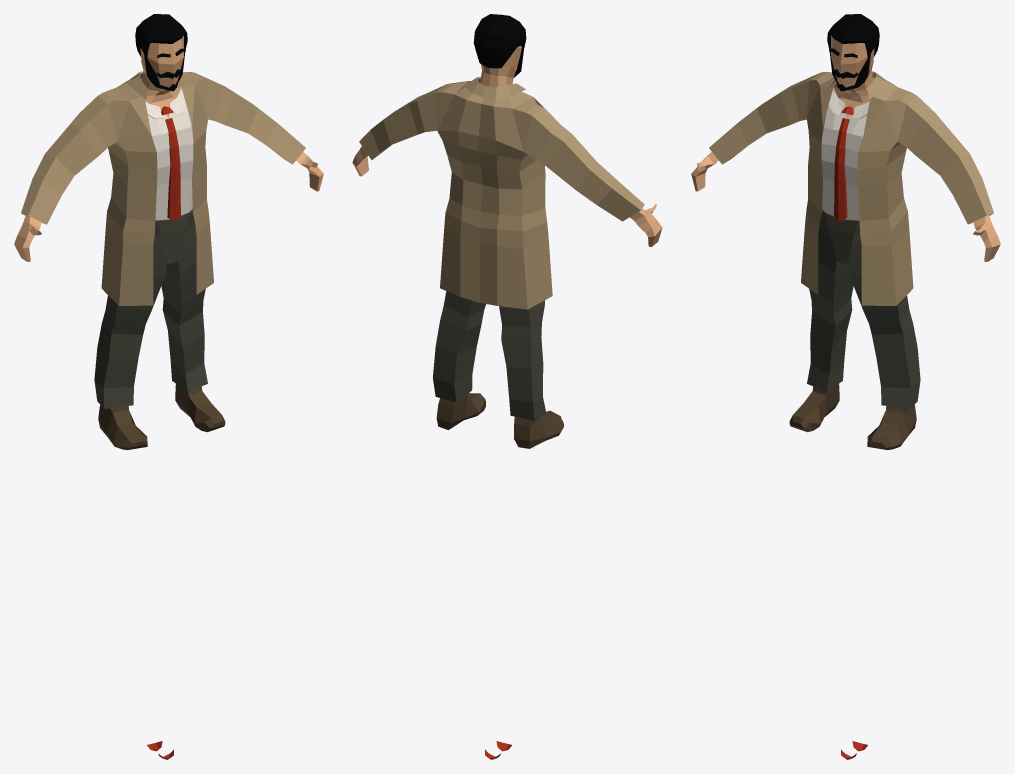
Rendered from Hank.fbx.
The picture shows the model from 3 angles, left to right: view 1: azimuth 30°, elevation 25°; view 2: azimuth 150°, elevation 25°; view 3: azimuth 330°, elevation 25°; orthographic projection.
Visible parts, largest first — view 1: shirt, pants, tanktop, body, boots, hair_1, Cube.001; view 2: shirt, pants, boots, hair_1, body; view 3: shirt, pants, tanktop, body, boots, hair_1, Cube.001.
Boxes of the visible parts, left/top/right/bottom form: shirt: left=21, top=71, right=305, bottom=305; pants: left=94, top=209, right=207, bottom=408; tanktop: left=145, top=88, right=193, bottom=220; body: left=14, top=35, right=323, bottom=261; boots: left=98, top=384, right=225, bottom=449; hair_1: left=135, top=14, right=187, bottom=57; Cube.001: left=165, top=118, right=180, bottom=221; shirt: left=359, top=76, right=644, bottom=309; pants: left=432, top=291, right=546, bottom=420; boots: left=436, top=393, right=563, bottom=448; hair_1: left=473, top=14, right=526, bottom=68; body: left=352, top=46, right=662, bottom=246; shirt: left=709, top=71, right=993, bottom=305; pants: left=807, top=209, right=920, bottom=408; tanktop: left=821, top=88, right=869, bottom=220; body: left=691, top=35, right=1000, bottom=261; boots: left=789, top=384, right=916, bottom=449; hair_1: left=827, top=14, right=879, bottom=57; Cube.001: left=834, top=118, right=849, bottom=221.
Bounding box in the file's own units: 146 × 340 × 33.76.
